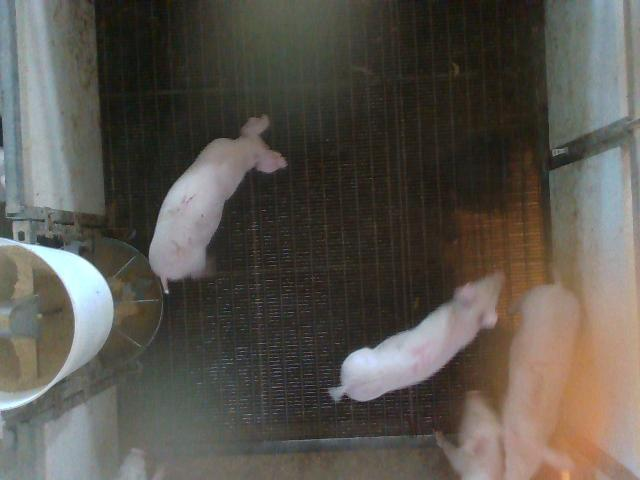pig-3: (502, 282, 581, 479)
pig-4: (329, 271, 504, 401)
